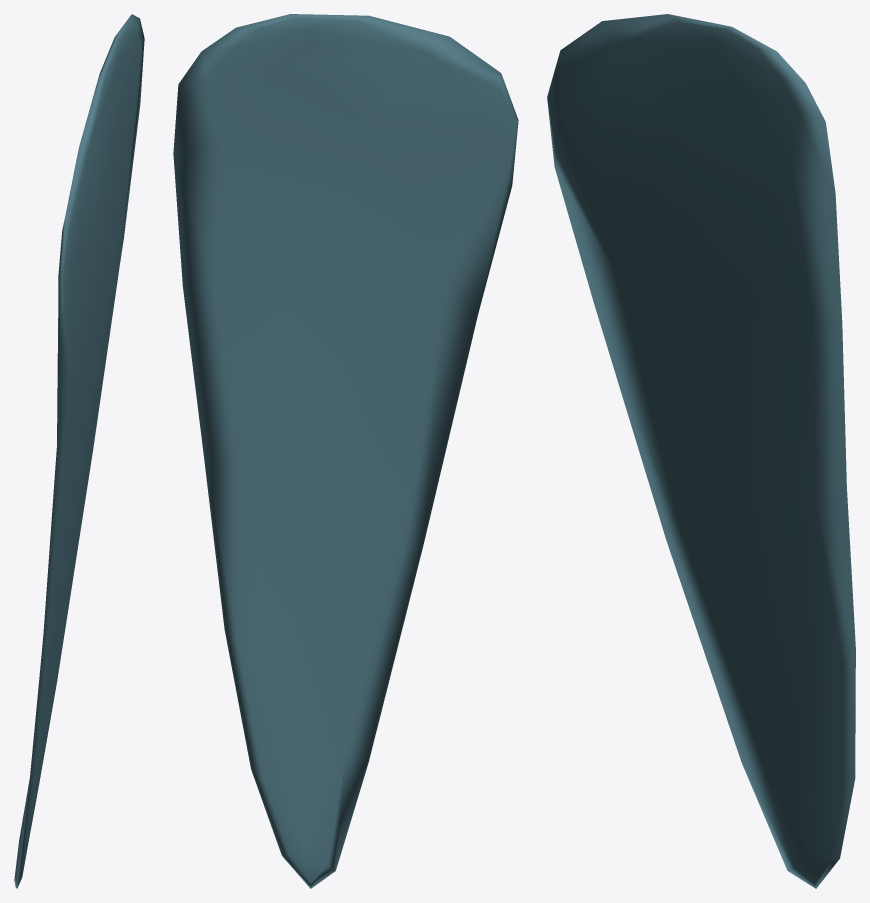
Rendered from Sartorius_on_pes_anserinus.r_Generated_Mesh_From_X3D.792.glb.
3 views of the same model, side by side, from view 1: azimuth 30°, elevation 25°; view 2: azimuth 150°, elevation 25°; view 3: azimuth 270°, elevation 25° (orthographic). The views are drawn at different scales.
Parts seen in each view (by area): view 1: Sartorius_on_pes_anserinus.r_Generated_Mesh_From_X3D.792; view 2: Sartorius_on_pes_anserinus.r_Generated_Mesh_From_X3D.792; view 3: Sartorius_on_pes_anserinus.r_Generated_Mesh_From_X3D.792.
Part boxes in pixels (box(x1,y1,x2,y2)): Sartorius_on_pes_anserinus.r_Generated_Mesh_From_X3D.792: box(14, 14, 144, 888); Sartorius_on_pes_anserinus.r_Generated_Mesh_From_X3D.792: box(173, 14, 518, 888); Sartorius_on_pes_anserinus.r_Generated_Mesh_From_X3D.792: box(547, 14, 855, 888).
Size of the model in its own units: 0.0123 by 0.0462 by 0.0145.
